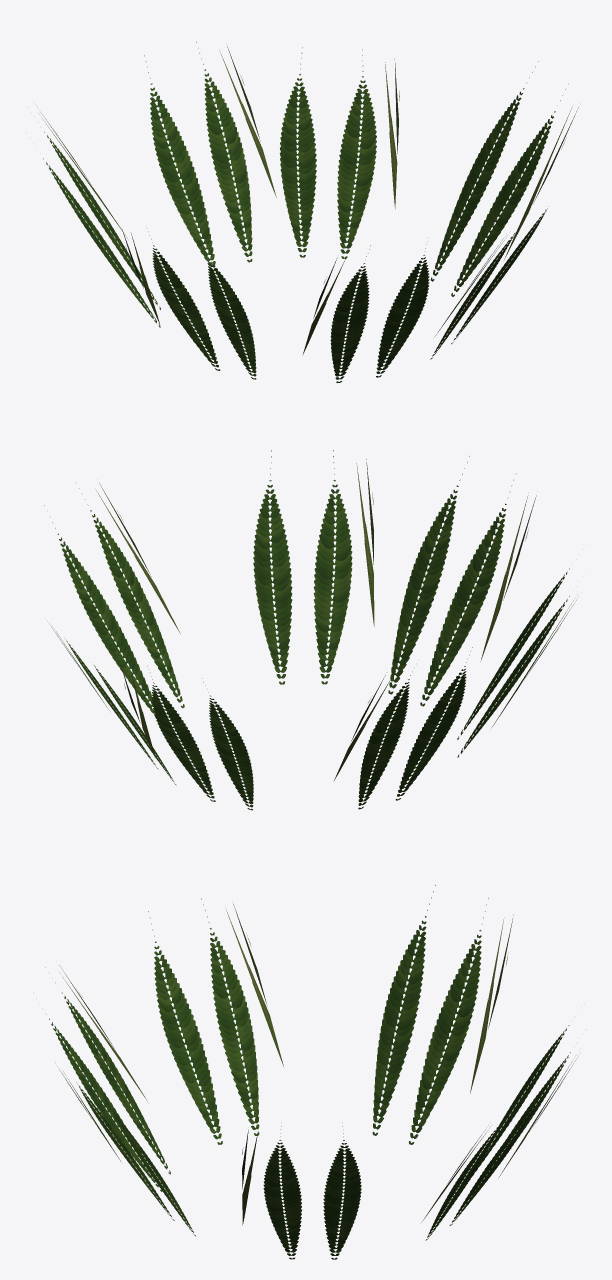
Rendered from FernClump_2.fbx.
3 views of the same model, one above another, from view 1: azimuth 30°, elevation 25°; view 2: azimuth 150°, elevation 25°; view 3: azimuth 270°, elevation 25° (orthographic).
Parts seen in each view (by area): view 1: FernClump_2; view 2: FernClump_2; view 3: FernClump_2.
Boxes of the visible parts, bbox=[...] form: FernClump_2: bbox=[27, 42, 578, 382]; FernClump_2: bbox=[44, 450, 576, 810]; FernClump_2: bbox=[36, 885, 576, 1259].
Size of the model in its own units: 1.26 by 0.536 by 1.26.
